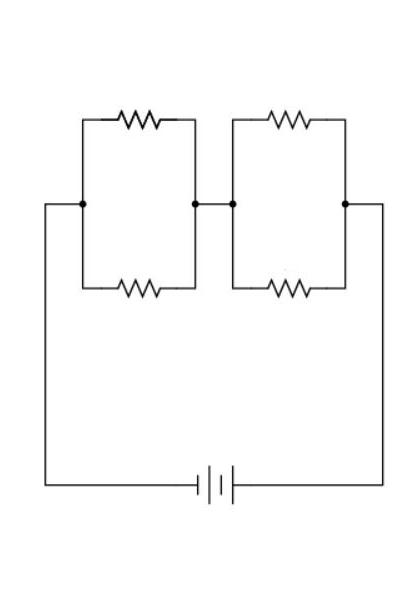resistor: (250, 263, 321, 306), (105, 263, 174, 307), (260, 95, 323, 141)
